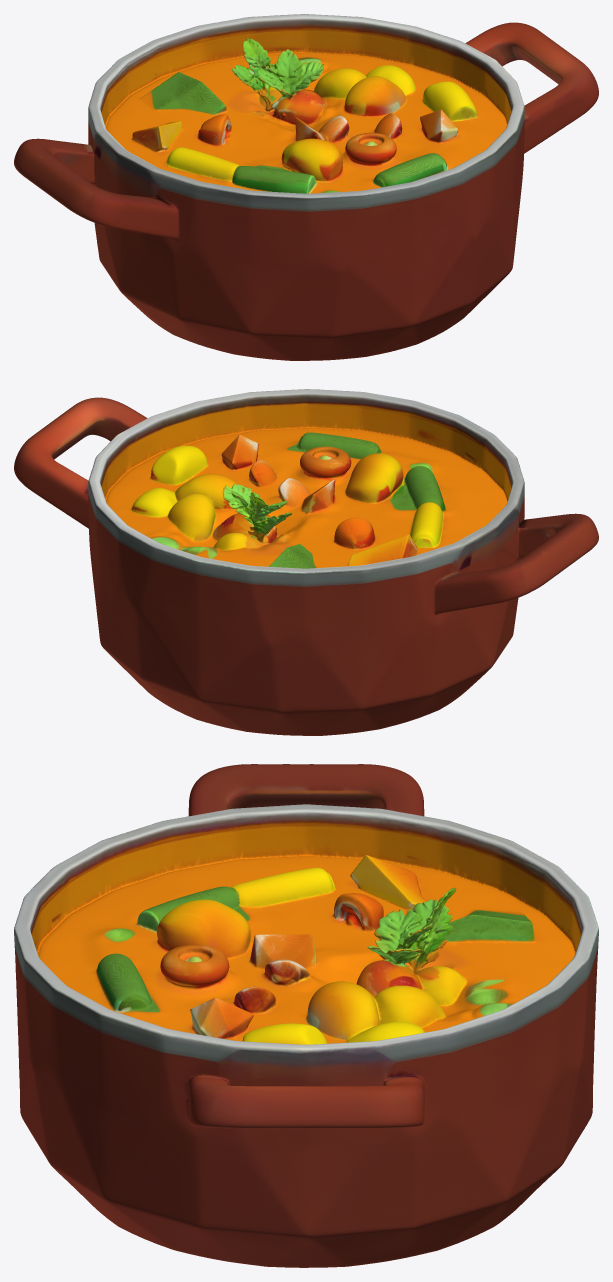
File: Cacarola.glb
3 views of the same model, one above another, from view 1: azimuth 30°, elevation 25°; view 2: azimuth 150°, elevation 25°; view 3: azimuth 270°, elevation 25° (orthographic). The views are drawn at different scales.
Visible parts, largest first — view 1: Mesh_0; view 2: Mesh_0; view 3: Mesh_0.
Part boxes in pixels (<box>): Mesh_0: <box>14,14,598,360</box>; Mesh_0: <box>14,389,598,735</box>; Mesh_0: <box>14,764,598,1267</box>.
Bounding box in the file's own units: 1.9 × 0.7533 × 1.38.
Materials: 1 (1 with a texture image).
